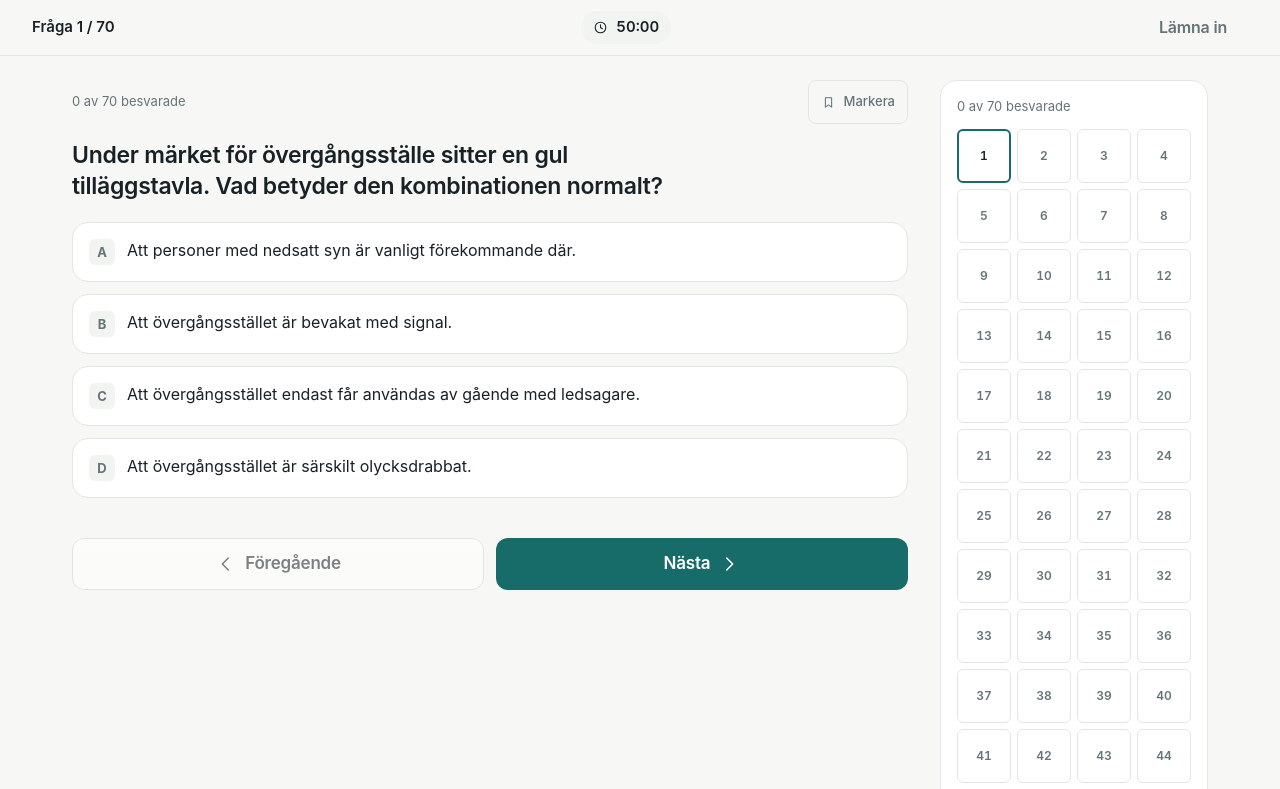
it: ExamRunnerPage › lets the learner mark a question and move between questions
Click the button "Markera".
click(858, 102)  # box 808,80 -> 908,124
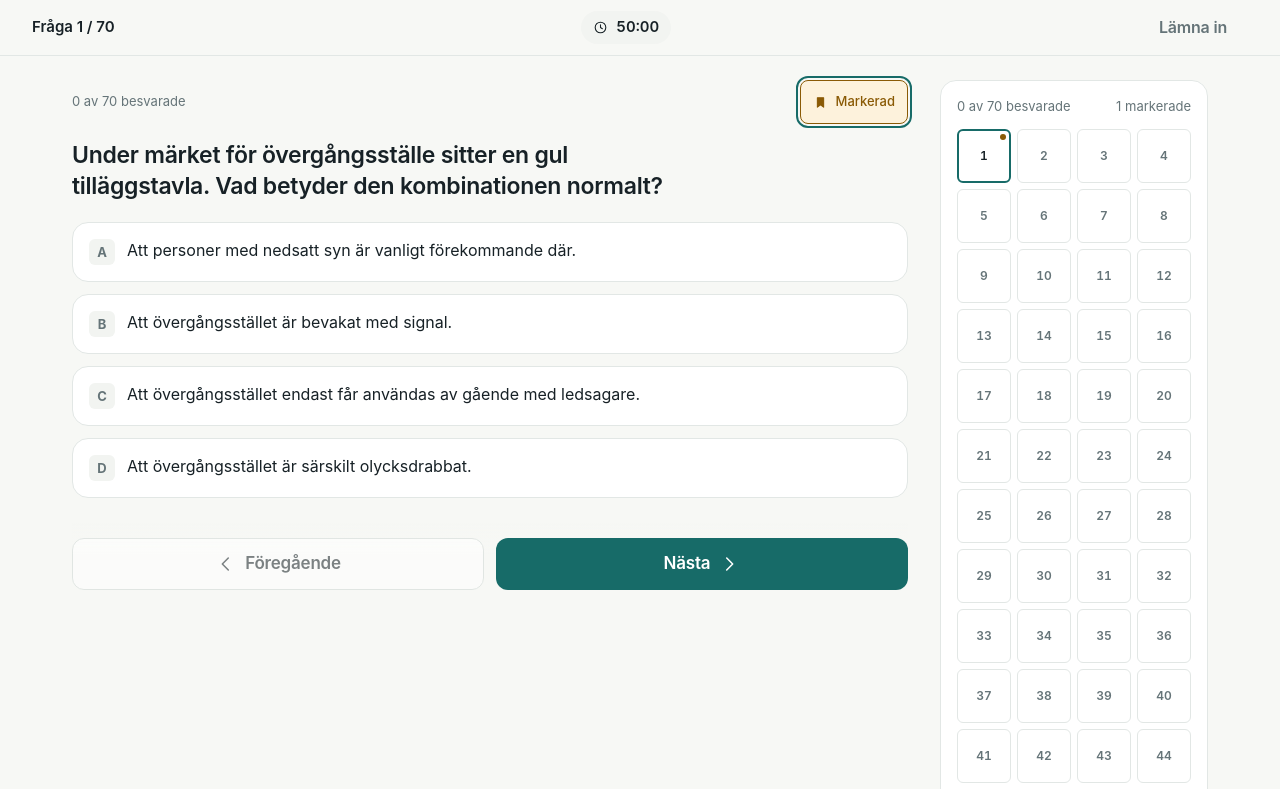
Result: the button "Markerad" is shown at 800,80 -> 908,124
Click the button "Nästa".
click(702, 564)  # box 496,538 -> 908,590
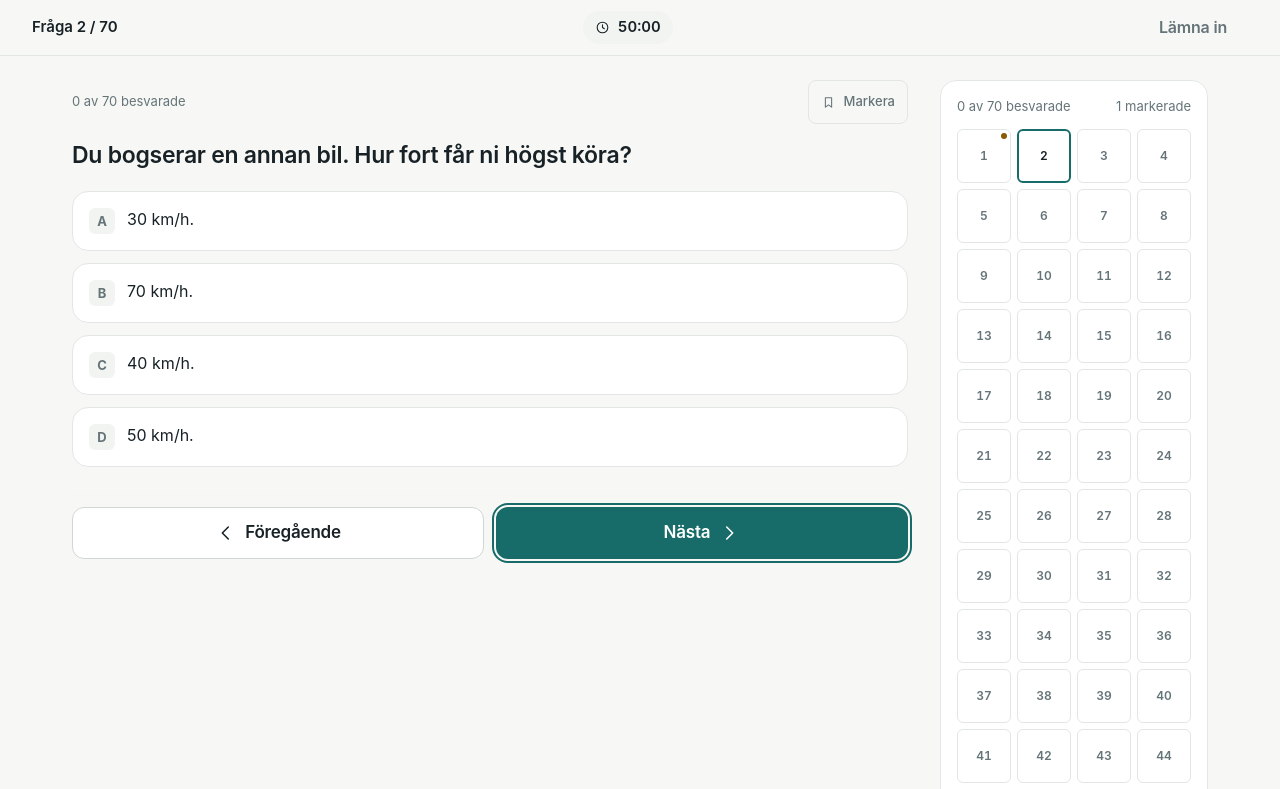
Click the button "Föregående".
click(278, 533)  # box 72,507 -> 484,559
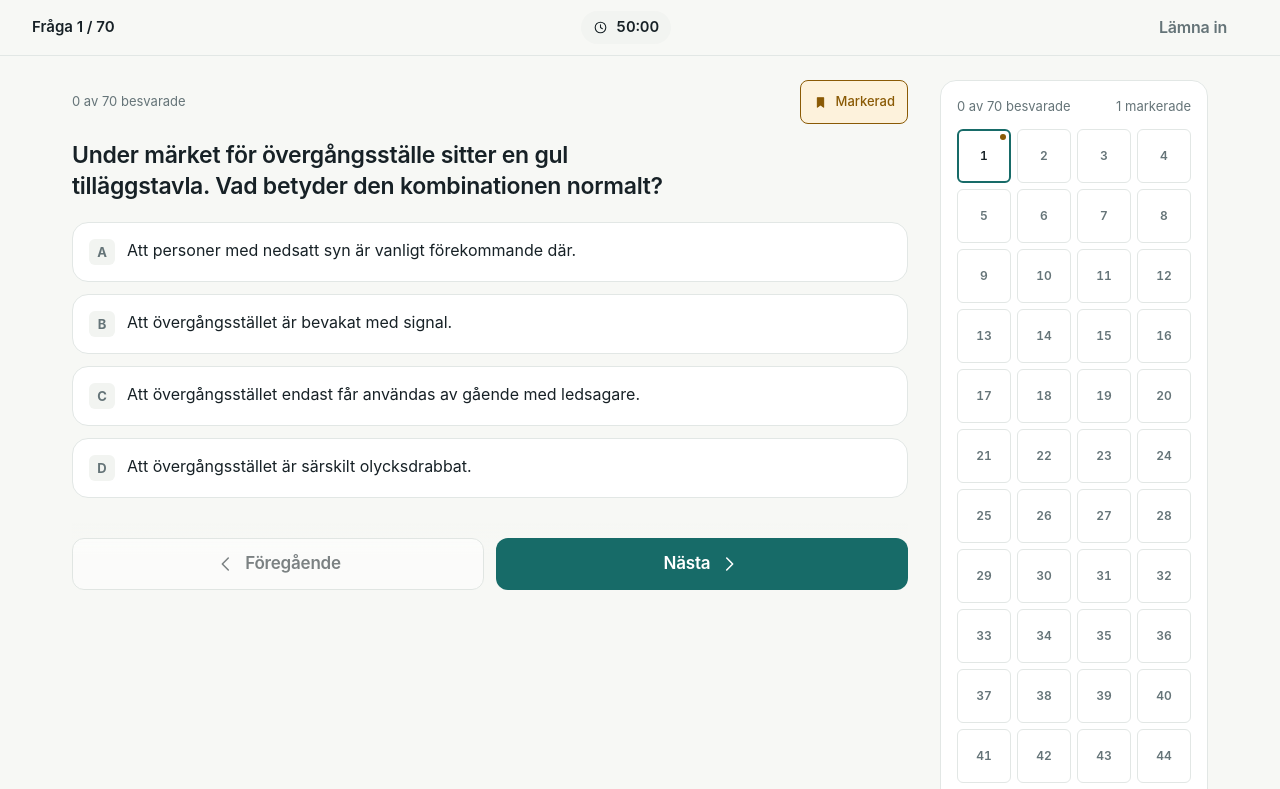
Result: the button "Markerad" is shown at 800,80 -> 908,124
